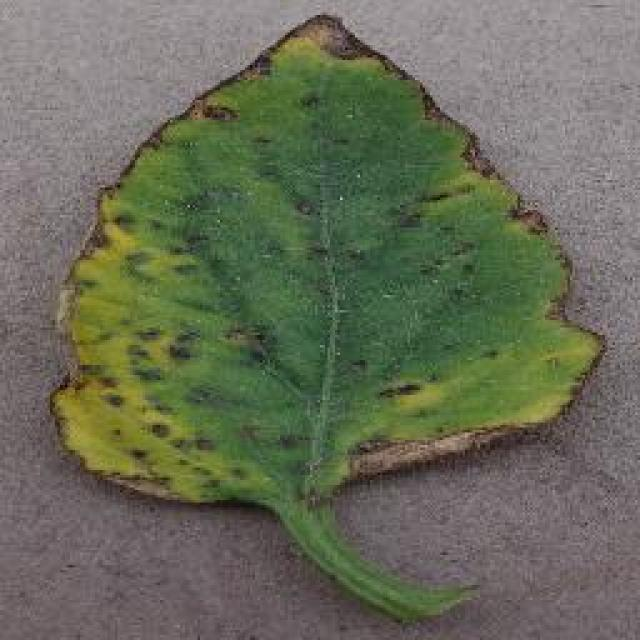Tomato bacterial spot leaf: (44, 7, 608, 510)
